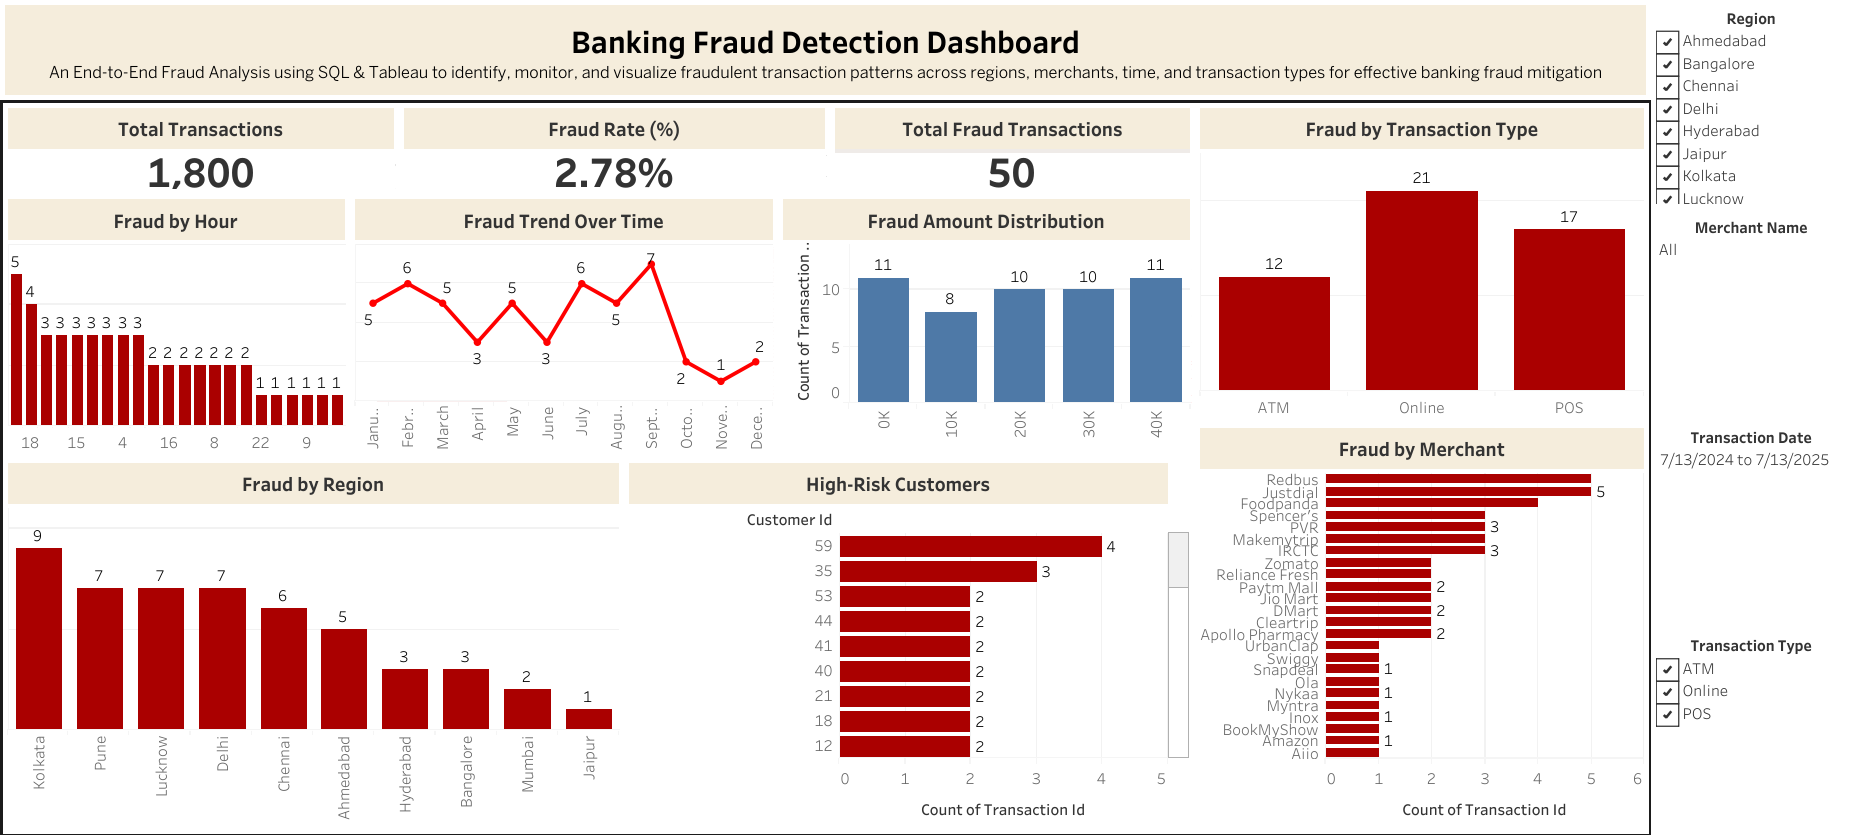

The page's visual inventory and layout, read from the dashboard file:
{"tool":"tableau","page":{"name":"Dashboard 1","canvas":[1000,1000],"units":"permille","ordinal":0},"visuals":[{"type":"title","box":[0,0,915.2,86.9]},{"type":"filter","title":"Fraud by Region","param":"[federated.08ff9ep1xb78vd1fs1sqz1a5mns6].[none:region:nk]","box":[915.2,0,84.8,270.4]},{"type":"worksheet","title":"Total Transactions","mark":"Automatic","box":[1.1,89,239.7,112.9]},{"type":"worksheet","title":"Fraud Rate (%)","mark":"Automatic","box":[240.8,89,260.8,112.9]},{"type":"worksheet","title":"Total Fraud Transactions","mark":"Automatic","box":[501.6,89,220.3,112.9]},{"type":"worksheet","title":"Fraud by Transaction Type","mark":"Automatic","rows":["transaction_id"],"cols":["transaction_type"],"box":[721.9,89,192.3,398.4]},{"type":"worksheet","title":"Fraud by Hour","mark":"Automatic","rows":["transaction_id"],"cols":["Calculation_998954723802931202"],"box":[1.1,201.9,210.3,327.9]},{"type":"worksheet","title":"Fraud Trend Over Time","mark":"Line","rows":["transaction_id"],"cols":["transaction_date"],"box":[211.4,201.9,257.9,327.9]},{"type":"worksheet","title":"Fraud Amount Distribution","mark":"Automatic","rows":["transaction_id"],"cols":["Transaction Amount (bin)"],"box":[469.3,201.9,252.6,327.9]},{"type":"filter","title":"Fraud by Merchant","param":"[federated.08ff9ep1xb78vd1fs1sqz1a5mns6].[none:merchant_name:nk]","box":[915.2,270.4,84.8,188.9]},{"type":"filter","title":"Fraud by Hour","param":"[federated.08ff9ep1xb78vd1fs1sqz1a5mns6].[none:transaction_date:qk]","box":[915.2,459.3,84.8,270.4]},{"type":"worksheet","title":"Fraud by Merchant","mark":"Automatic","rows":["merchant_name"],"cols":["transaction_id"],"box":[721.9,487.5,192.3,510.2]},{"type":"worksheet","title":"Fraud by Region","mark":"Automatic","rows":["transaction_id"],"cols":["region"],"box":[1.1,529.8,375.7,468]},{"type":"worksheet","title":"High-Risk Customers","mark":"Automatic","rows":["customer_id"],"cols":["transaction_id"],"box":[376.8,529.8,345.1,468]},{"type":"filter","title":"Fraud by Transaction Type","param":"[federated.08ff9ep1xb78vd1fs1sqz1a5mns6].[none:transaction_type:nk]","box":[915.2,729.6,84.8,270.4]}]}

Visuals, with their boxes on the dashboard's canvas, which has no fixed pixel size, in thousandths of its width and height (x1, y1, x2, y2). These are canvas units, not pixel positions in the 1850x835 screenshot, which may show the page scaled, cropped or inside an application window:
title: [0, 0, 915, 87]
"Fraud by Region" filter: [915, 0, 1000, 270]
"Total Transactions" worksheet: [1, 89, 241, 202]
"Fraud Rate (%)" worksheet: [241, 89, 502, 202]
"Total Fraud Transactions" worksheet: [502, 89, 722, 202]
"Fraud by Transaction Type" worksheet: [722, 89, 914, 487]
"Fraud by Hour" worksheet: [1, 202, 211, 530]
"Fraud Trend Over Time" worksheet (Line marks): [211, 202, 469, 530]
"Fraud Amount Distribution" worksheet: [469, 202, 722, 530]
"Fraud by Merchant" filter: [915, 270, 1000, 459]
"Fraud by Hour" filter: [915, 459, 1000, 730]
"Fraud by Merchant" worksheet: [722, 488, 914, 998]
"Fraud by Region" worksheet: [1, 530, 377, 998]
"High-Risk Customers" worksheet: [377, 530, 722, 998]
"Fraud by Transaction Type" filter: [915, 730, 1000, 1000]
